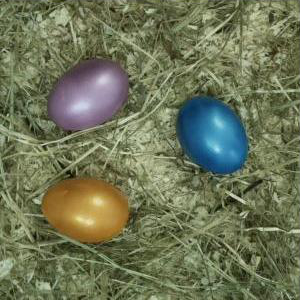egg: (41, 177, 131, 244), (48, 59, 129, 132), (177, 96, 249, 173)
